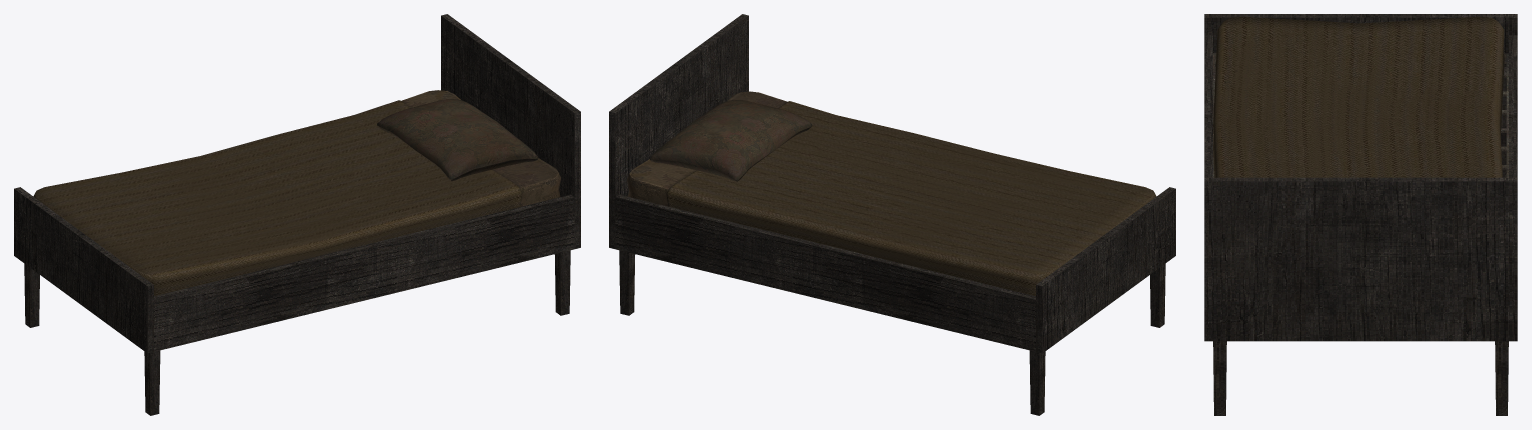
File: bed_3_a_made.glb
The picture shows the model from 3 angles, left to right: view 1: azimuth 30°, elevation 25°; view 2: azimuth 150°, elevation 25°; view 3: azimuth 270°, elevation 25°; orthographic projection. The views are drawn at different scales.
Parts seen in each view (by area): view 1: bed_3_a_made; view 2: bed_3_a_made; view 3: bed_3_a_made.
Part boxes in pixels (<box>): bed_3_a_made: <box>14,14,580,415</box>; bed_3_a_made: <box>609,14,1175,415</box>; bed_3_a_made: <box>1204,14,1517,415</box>.
Bounding box in the file's own units: 2.7 × 1.21 × 1.44.
4 materials, 4 textured.
